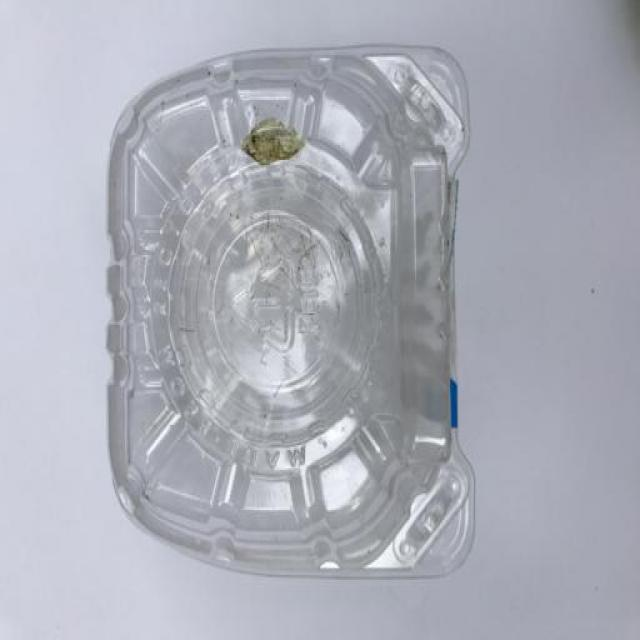plastic: (82, 34, 551, 640)
